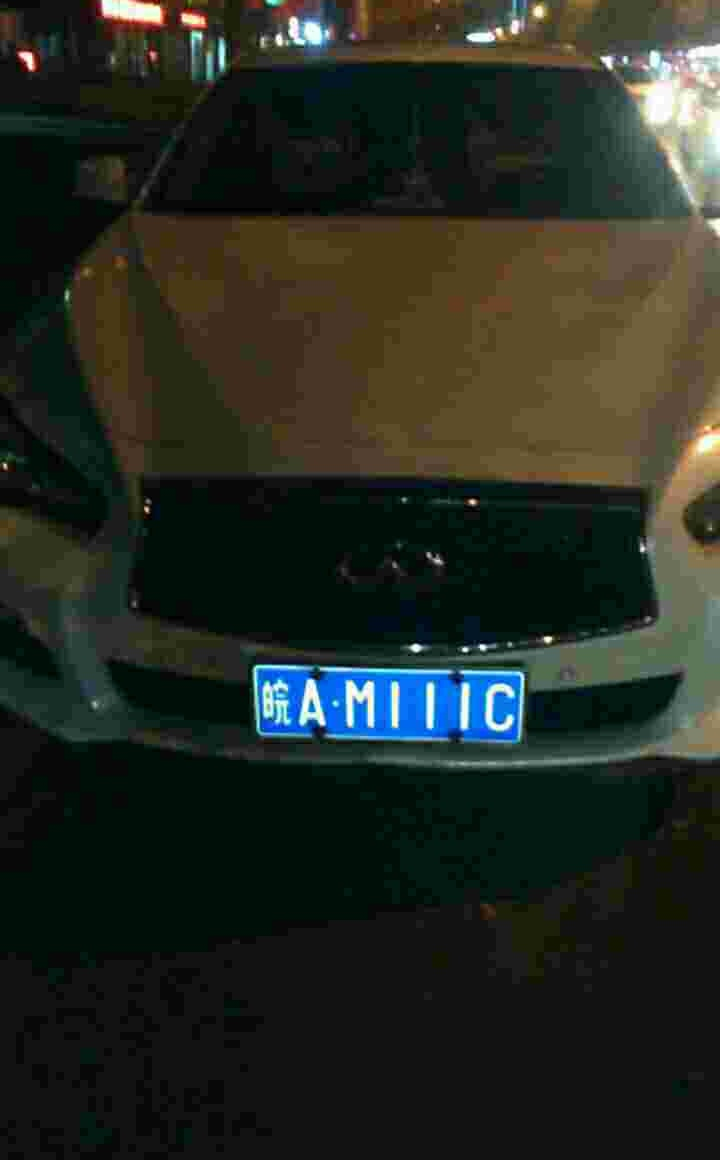license_plate: (265, 671, 516, 739)
